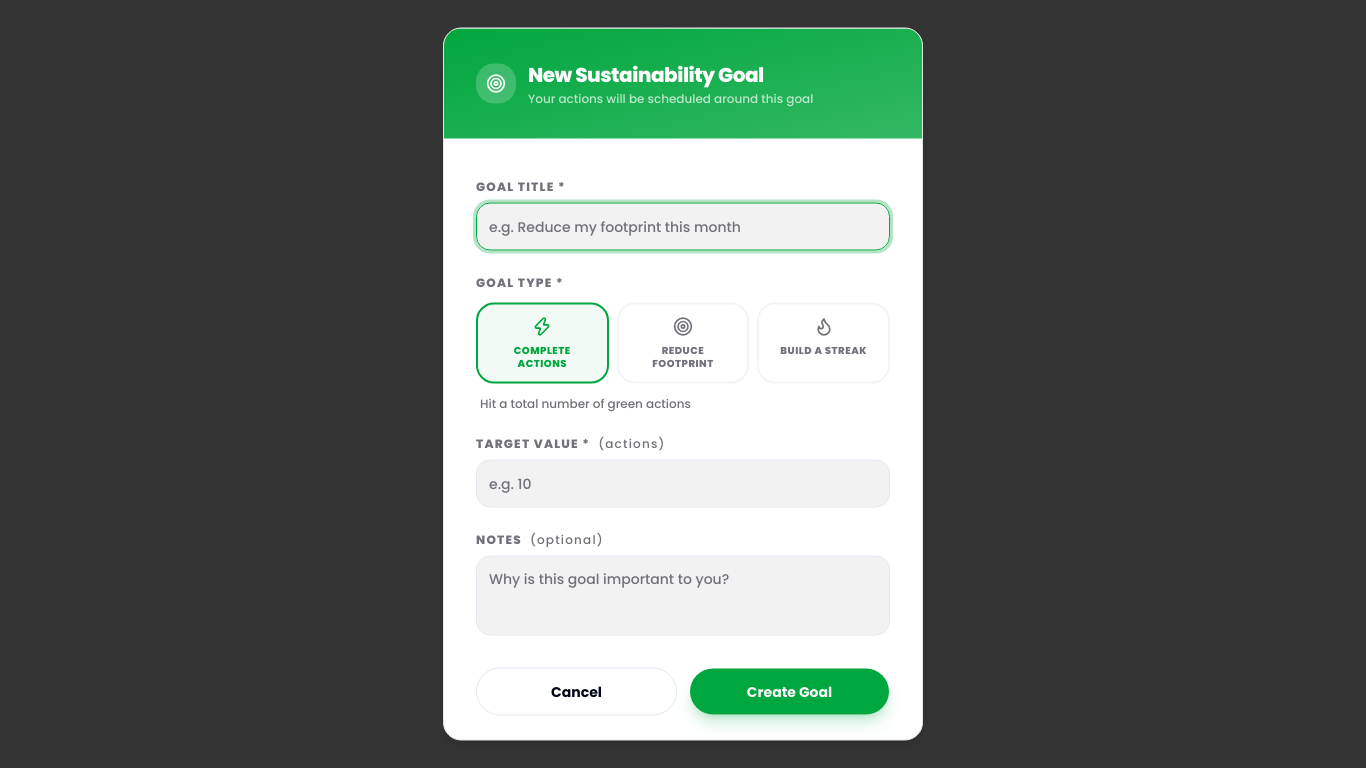
Test: GoalModal › switches goal types
What coordinates should you click on to do the following:
click the button "Reduce Footprint"
I would click on:
 (683, 343)
Its box is [617,302,749,384].
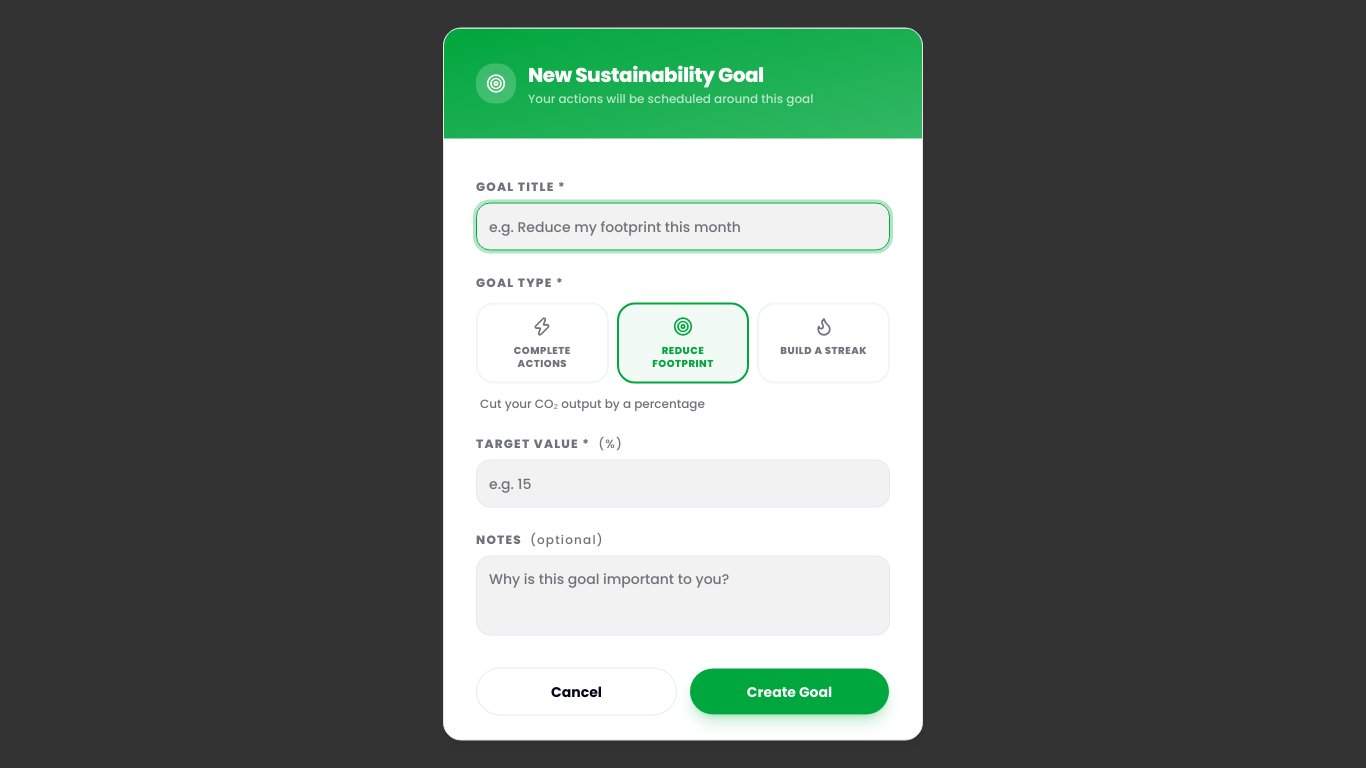
Result: the text "Cut your CO₂ output by a percentage" is shown at [480,394,705,412]
Result: the text "(%)" is shown at [598,436,623,452]
